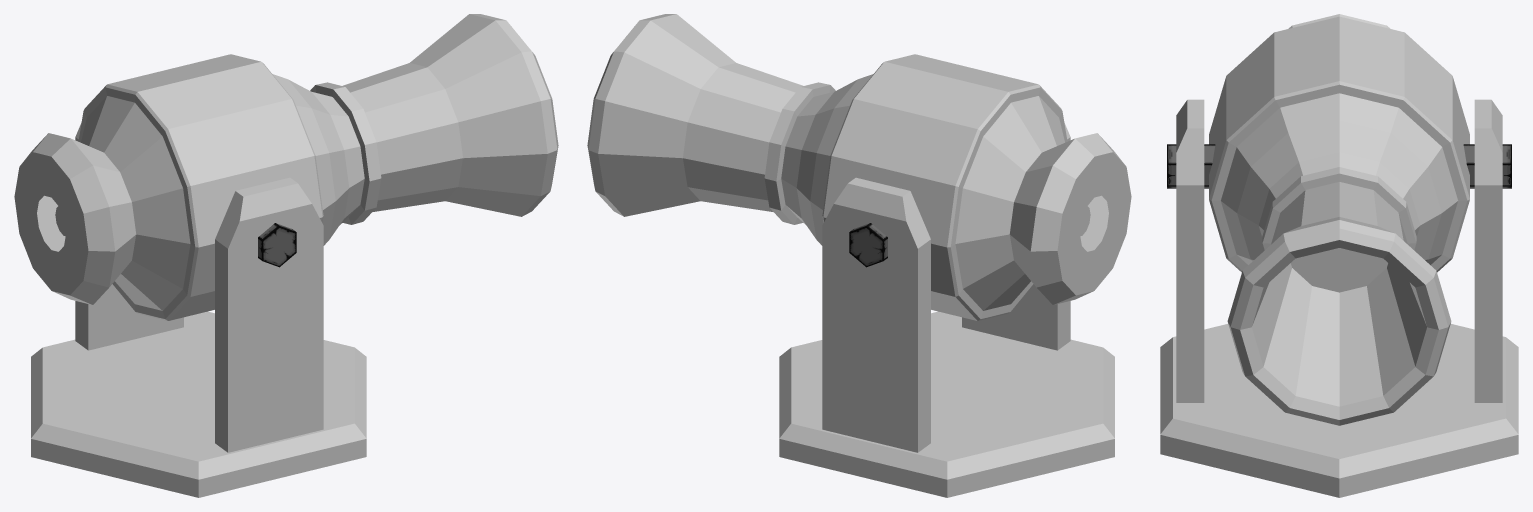
Rendered from cannon_a.fbx.
3 views of the same model, side by side, from view 1: azimuth 30°, elevation 25°; view 2: azimuth 150°, elevation 25°; view 3: azimuth 270°, elevation 25° (orthographic). The views are drawn at different scales.
Parts seen in each view (by area): view 1: cannon, cannon_desk, cannon_holder, bracing; view 2: cannon, cannon_desk, cannon_holder, bracing; view 3: cannon, cannon_desk, cannon_holder, bracing.
Part boxes in pixels (x1=…): cannon: x1=14, y1=14, x2=558, y2=320; cannon_desk: x1=31, y1=311, x2=366, y2=497; cannon_holder: x1=75, y1=122, x2=323, y2=452; bracing: x1=258, y1=223, x2=296, y2=267; cannon: x1=587, y1=14, x2=1131, y2=320; cannon_desk: x1=779, y1=311, x2=1114, y2=497; cannon_holder: x1=822, y1=122, x2=1070, y2=452; bracing: x1=849, y1=223, x2=887, y2=267; cannon: x1=1209, y1=14, x2=1469, y2=425; cannon_desk: x1=1160, y1=324, x2=1518, y2=497; cannon_holder: x1=1176, y1=99, x2=1502, y2=402; bracing: x1=1167, y1=144, x2=1511, y2=188.
Bounding box in the file's own units: 287 × 193 × 173.
